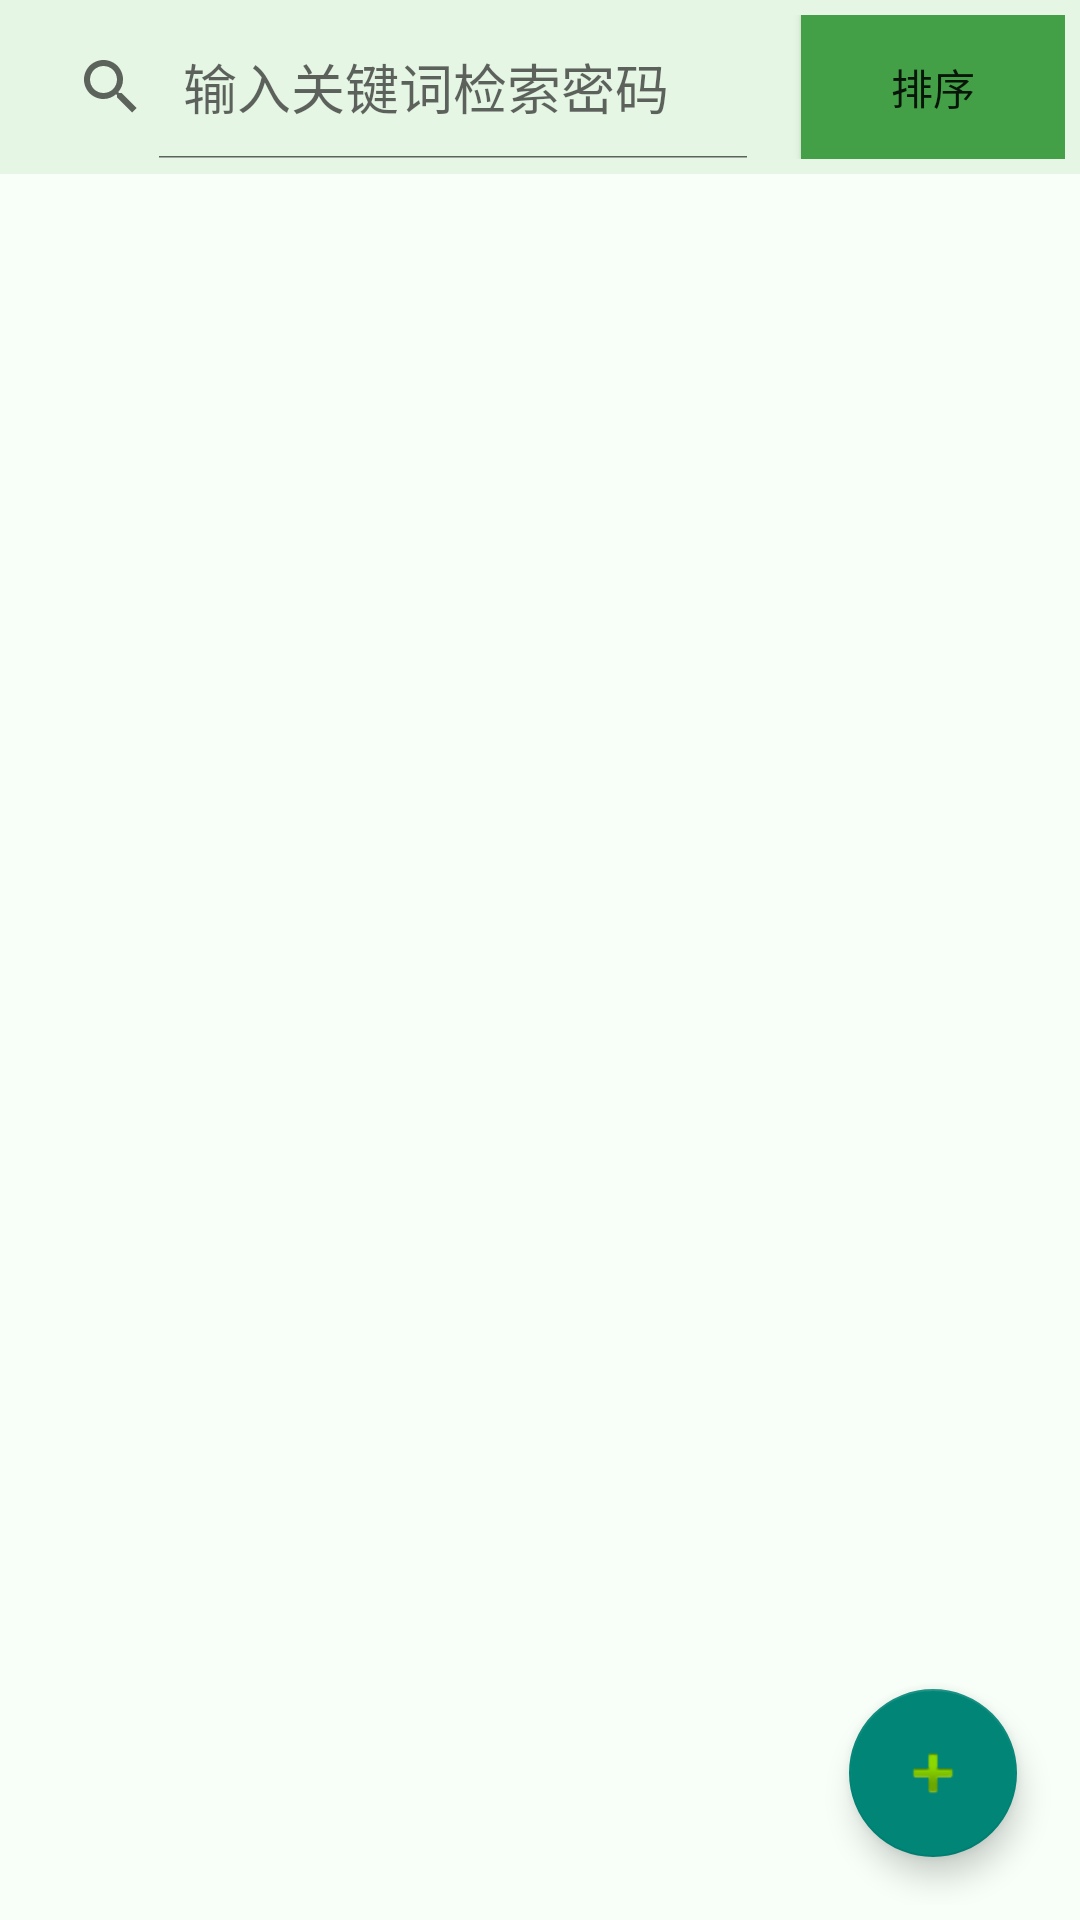

Point at icon controls on the screen. Image size 1080px×1920px, points as point (x, y).
新增密码: point (933, 1773)
